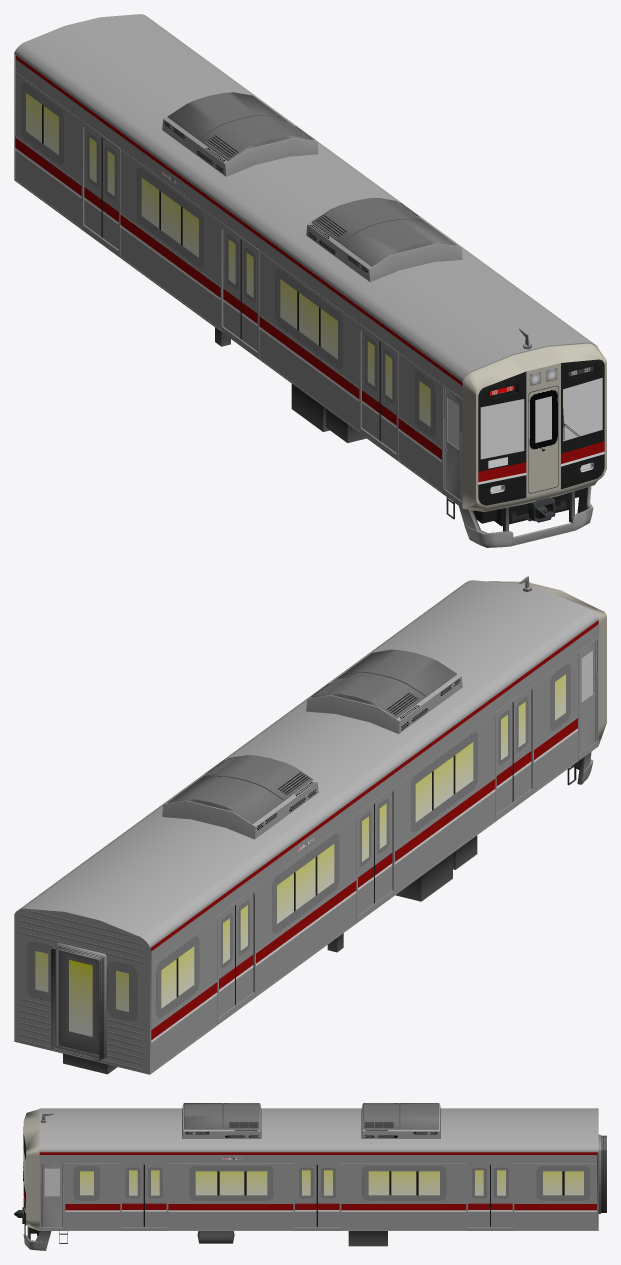
The picture shows the model from 3 angles, top to bottom: view 1: azimuth 30°, elevation 25°; view 2: azimuth 150°, elevation 25°; view 3: azimuth 270°, elevation 25°; orthographic projection. The views are drawn at different scales.
Parts seen in each view (by area): view 1: in_Flash; view 2: in_Flash; view 3: in_Flash.
Part boxes in pixels (x1,y1,x2,y2): in_Flash: (14,14,606,547); in_Flash: (14,576,606,1074); in_Flash: (14,1103,606,1250).
Bounding box in the file's own units: 6.65 × 9.25 × 39.95.
Materials: 50 (49 with a texture image).
